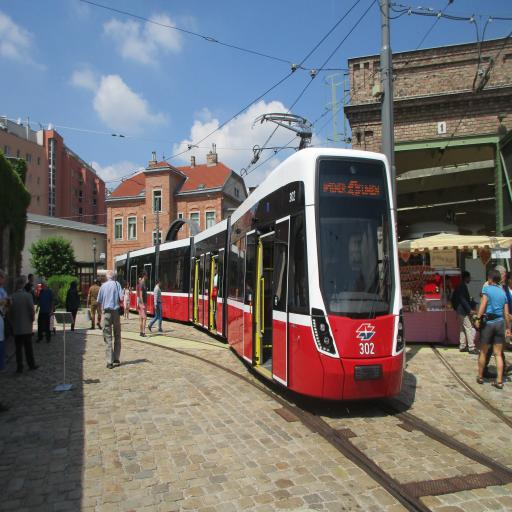Flexity: (112, 144, 408, 405)
